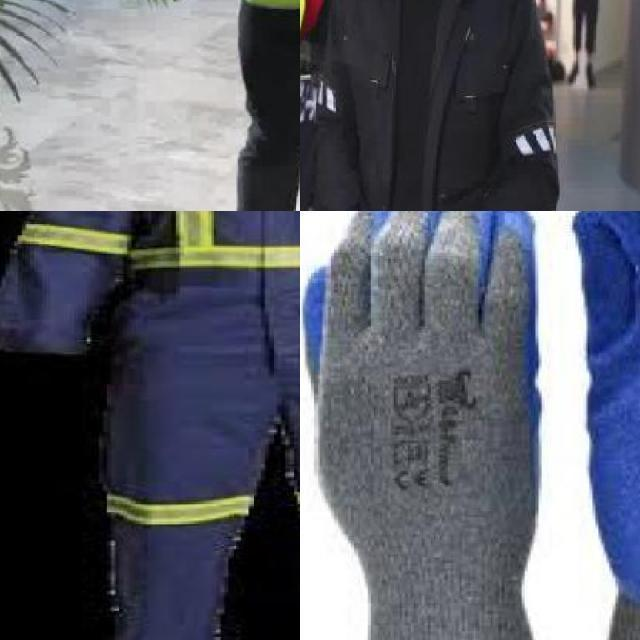apron: (300, 211, 563, 640), (568, 211, 640, 640)
